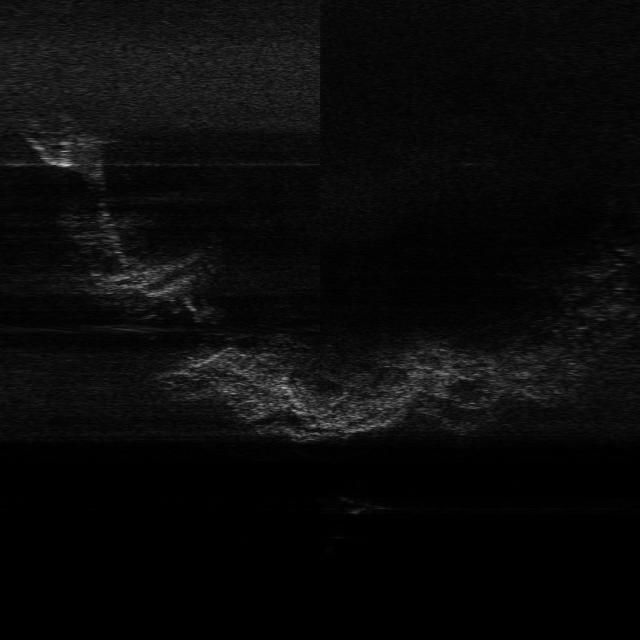plane: (338, 491, 397, 518)
